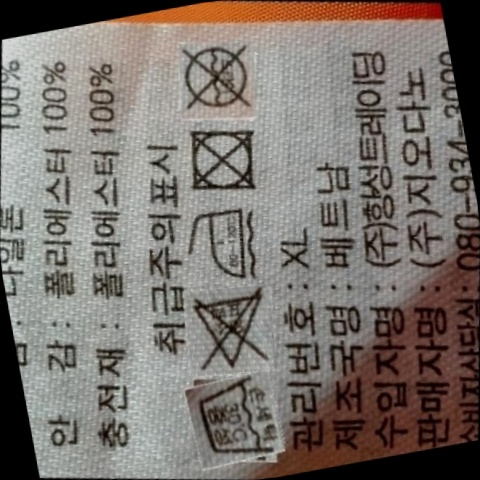DN_dry_clean: (170, 34, 264, 121)
DN_tumble_dry: (178, 116, 270, 203)
hand_wash: (184, 365, 293, 475)
iron_low: (180, 194, 271, 294)
non_chlorine_bleach: (188, 279, 284, 380)
